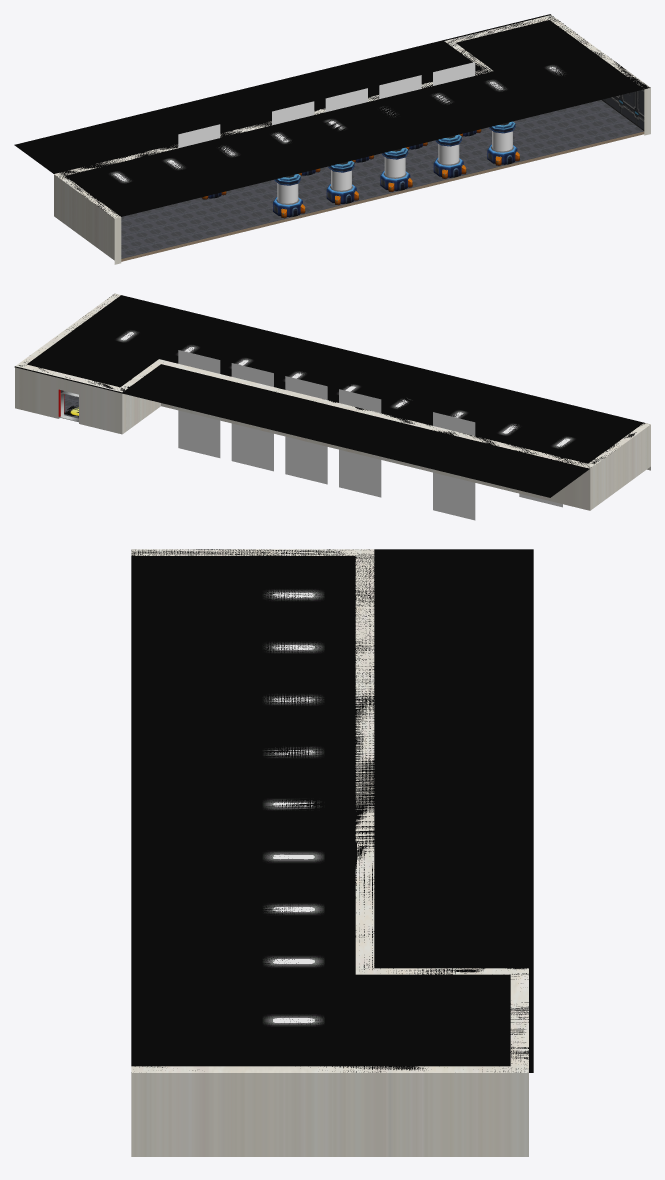
3 views of the same model, one above another, from view 1: azimuth 30°, elevation 25°; view 2: azimuth 150°, elevation 25°; view 3: azimuth 270°, elevation 25° (orthographic). The views are drawn at different scales.
Parts seen in each view (by area): view 1: P_D_006_Wall_01_4F_02, P_D_006_Floor_01_4F_02, P_C_001_ComWall_01_02, P_D_006_Capsule_01__3_, P_D_006_Capsule_01__5_, P_D_006_Capsule_01__1_, P_D_006_Capsule_01__9_, P_D_006_Capsule_01__7_, P_C_001_RootShadow_04__1_, P_C_001_RootShadow_04__2_, P_C_001_RootShadow_04__3_, P_C_001_RootShadow_04__4_ (+1 smaller); view 2: P_D_006_Wall_01_4F_02, P_C_001_RootShadow_04__2_, P_C_001_RootShadow_04__3_, P_C_001_RootShadow_04__1_, P_C_001_RootShadow_04__4_, P_C_001_RootShadow_04__5_; view 3: P_D_006_Wall_01_4F_02, P_C_001_CeilLight_01__3_, P_C_001_CeilLight_01__1_, P_C_001_CeilLight_01__2_.
Part boxes in pixels (left/top/right/bottom): P_D_006_Wall_01_4F_02: left=14, top=14, right=650, bottom=264; P_D_006_Floor_01_4F_02: left=121, top=100, right=643, bottom=258; P_C_001_ComWall_01_02: left=121, top=131, right=644, bottom=261; P_D_006_Capsule_01__3_: left=433, top=134, right=466, bottom=178; P_D_006_Capsule_01__5_: left=380, top=147, right=412, bottom=191; P_D_006_Capsule_01__1_: left=487, top=121, right=519, bottom=165; P_D_006_Capsule_01__9_: left=273, top=174, right=305, bottom=218; P_D_006_Capsule_01__7_: left=326, top=160, right=358, bottom=204; P_C_001_RootShadow_04__1_: left=178, top=124, right=220, bottom=148; P_C_001_RootShadow_04__2_: left=272, top=101, right=314, bottom=125; P_C_001_RootShadow_04__3_: left=325, top=88, right=367, bottom=111; P_C_001_RootShadow_04__4_: left=379, top=75, right=421, bottom=98; P_D_006_Wall_01_4F_02: left=14, top=293, right=650, bottom=510; P_C_001_RootShadow_04__2_: left=339, top=389, right=381, bottom=497; P_C_001_RootShadow_04__3_: left=285, top=376, right=327, bottom=484; P_C_001_RootShadow_04__1_: left=433, top=412, right=475, bottom=520; P_C_001_RootShadow_04__4_: left=231, top=363, right=273, bottom=471; P_C_001_RootShadow_04__5_: left=178, top=350, right=220, bottom=457; P_D_006_Wall_01_4F_02: left=131, top=549, right=533, bottom=1156; P_C_001_CeilLight_01__3_: left=262, top=850, right=324, bottom=863; P_C_001_CeilLight_01__1_: left=262, top=955, right=324, bottom=968; P_C_001_CeilLight_01__2_: left=262, top=902, right=324, bottom=915.
Bounding box in the file's own units: 0.4 × 0.07 × 0.13.
12 materials, 12 textured.
